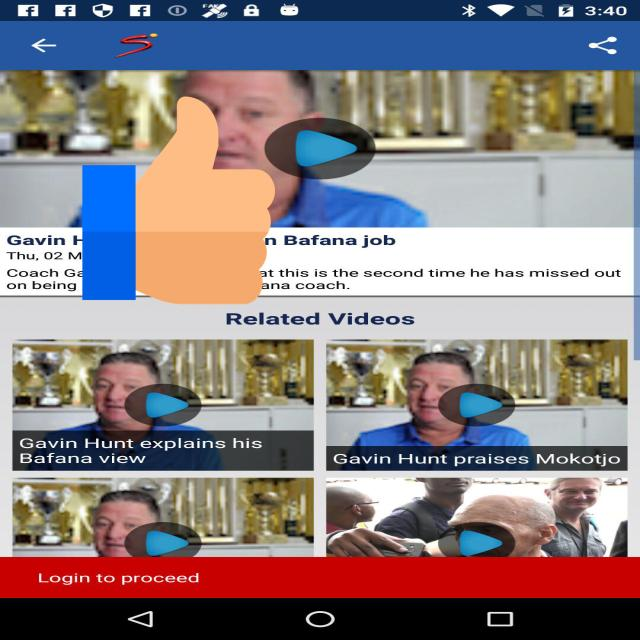privacy zuckering: (82, 92, 275, 310)
